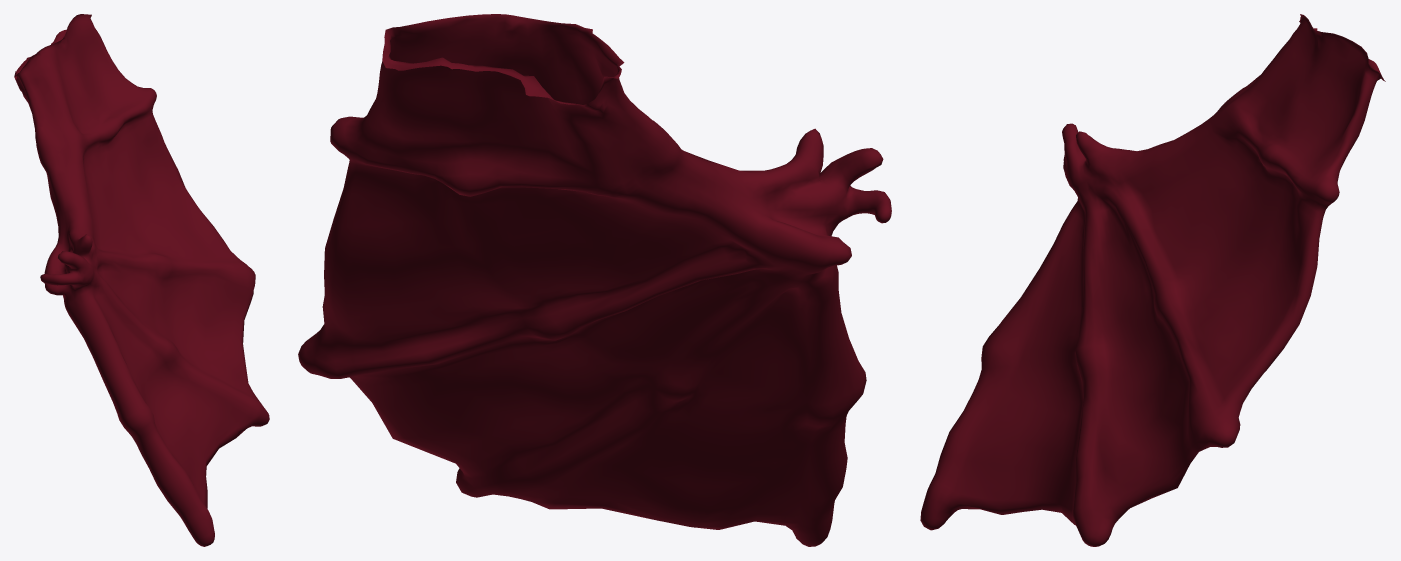
File: dragon_alaiz.obj
3 renders of one model, left to right at view 1: azimuth 30°, elevation 25°; view 2: azimuth 150°, elevation 25°; view 3: azimuth 270°, elevation 25°, orthographic. The views are drawn at different scales.
Parts seen in each view (by area): view 1: Object002; view 2: Object002; view 3: Object002.
Part boxes in pixels (x1,y1,x2,y2): Object002: [14, 14, 269, 546]; Object002: [298, 14, 891, 546]; Object002: [920, 14, 1385, 546].
Size of the model in its own units: 6.31 by 9.03 by 7.5.
